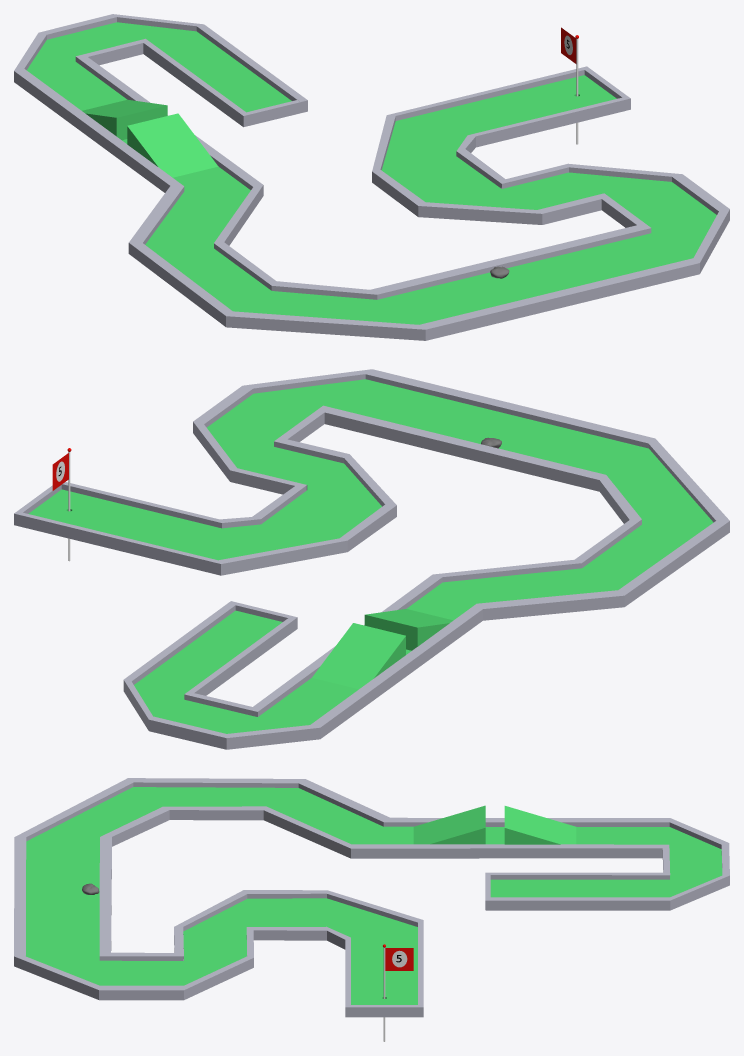
The model's file is bane5med rigtig flag.fbx.
The picture shows the model from 3 angles, top to bottom: view 1: azimuth 30°, elevation 25°; view 2: azimuth 150°, elevation 25°; view 3: azimuth 270°, elevation 25°; orthographic projection. The views are drawn at different scales.
Parts seen in each view (by area): view 1: bane, Cube, Cube.002, rampe2, rampe, Cube.003; view 2: bane, Cube, Cube.002, rampe, rampe2; view 3: bane, Cube, Cube.002, rampe2, rampe, Cube.001, Cube.004.
Boxes of the visible parts, box(x1,y1,x2,y2) form: bane: box(26, 22, 716, 324); Cube: box(14, 14, 729, 340); Cube.002: box(75, 38, 651, 299); rampe2: box(127, 113, 218, 177); rampe: box(82, 99, 167, 140); Cube.003: box(241, 100, 307, 127); bane: box(28, 379, 713, 733); Cube: box(61, 369, 729, 749); Cube.002: box(19, 405, 641, 716); rampe: box(312, 623, 405, 689); rampe2: box(364, 609, 453, 650); bane: box(26, 787, 722, 1004); Cube: box(14, 778, 729, 1004); Cube.002: box(99, 806, 670, 1004); rampe2: box(413, 805, 485, 844); rampe: box(504, 806, 576, 844); Cube.001: box(345, 1005, 423, 1017); Cube.004: box(385, 948, 413, 970).
Size of the model in its own units: 641 by 127 by 846.
